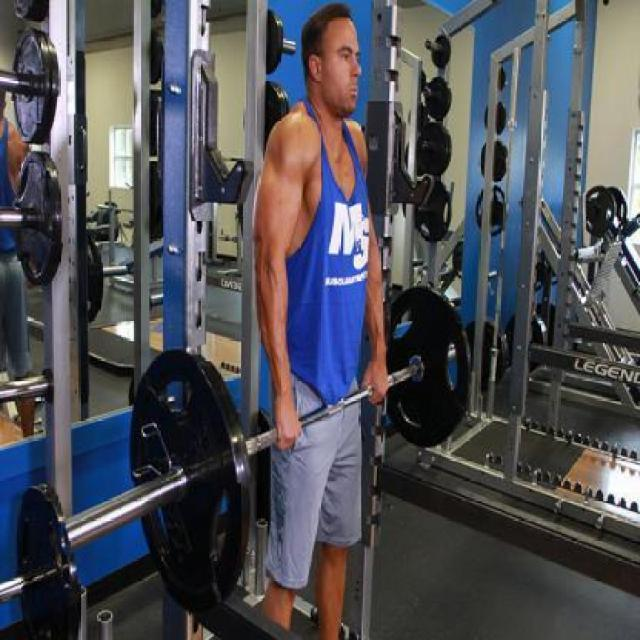barbell: (55, 347, 254, 621)
